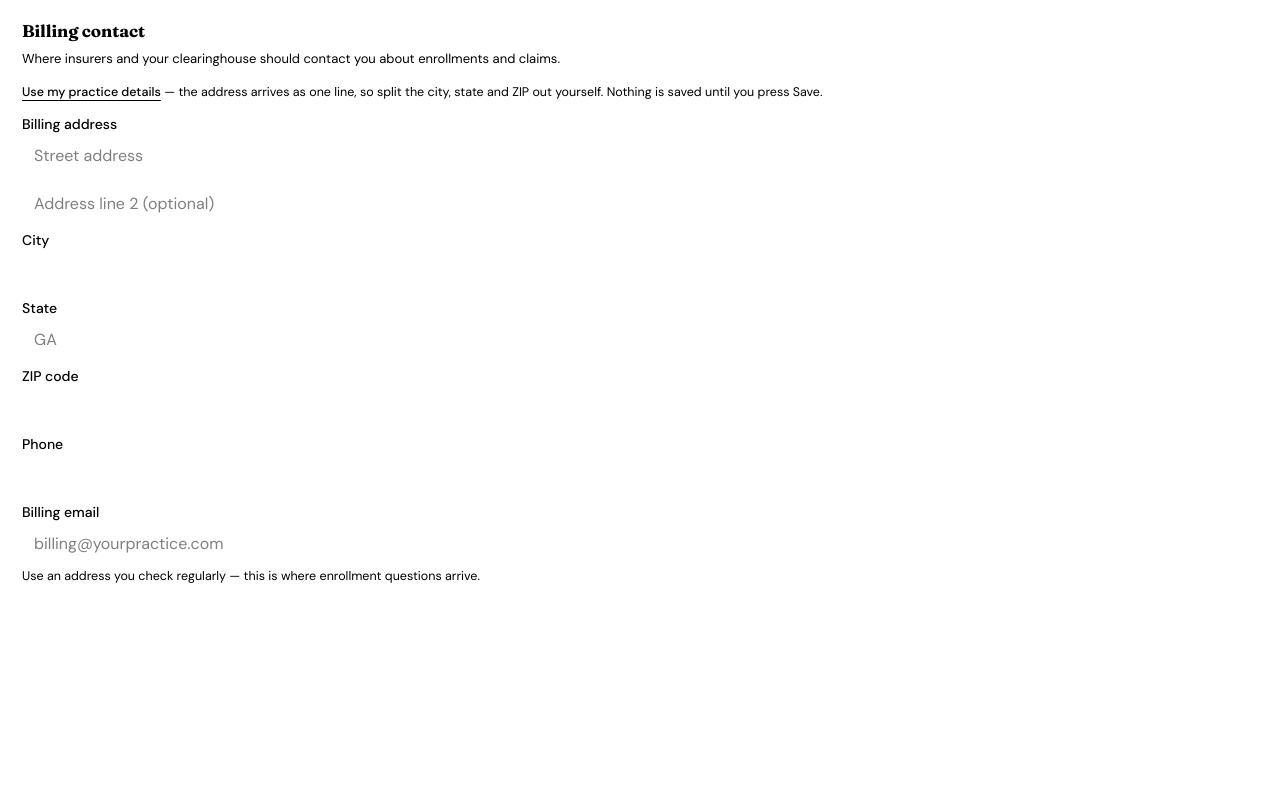
it: BillingContactCard › offers the practice details it already knows, without saving them
Click the button "Use my practice details": [91, 92] box [22, 83, 161, 101]
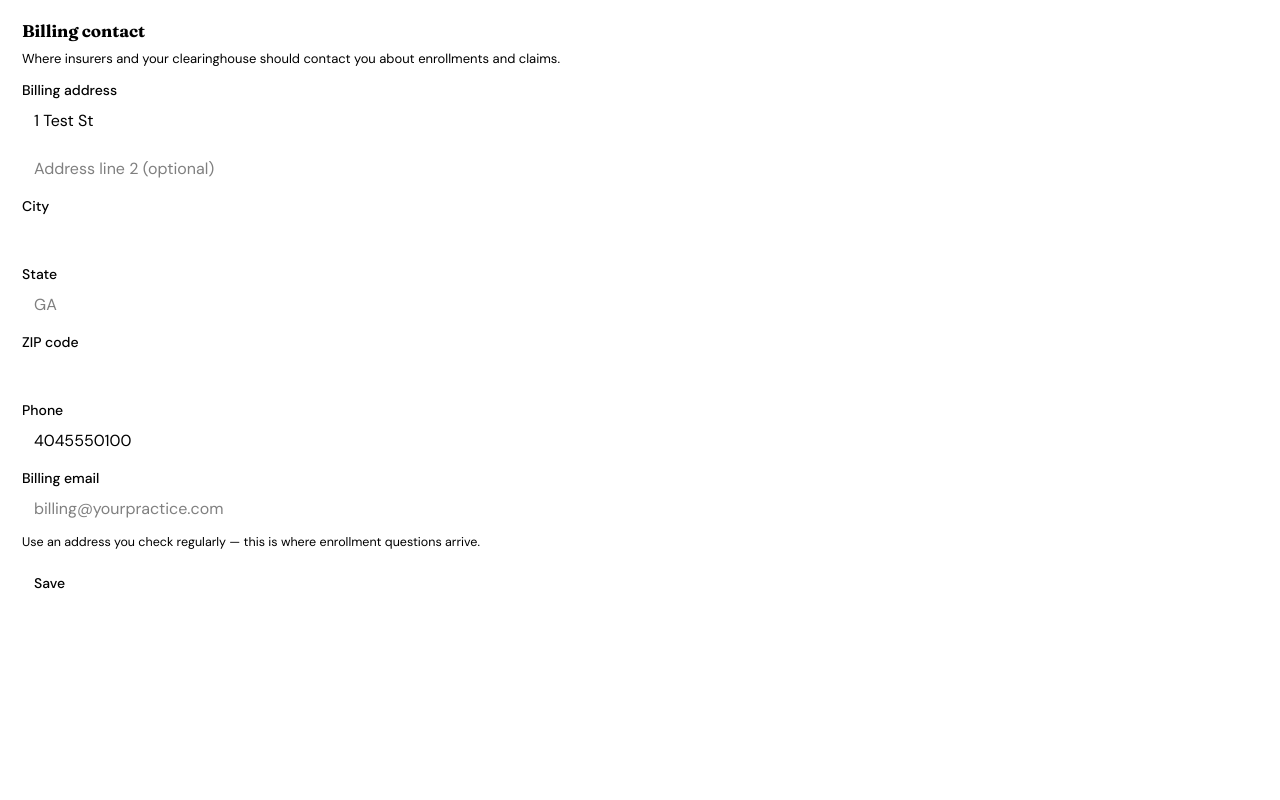
Check: the field labelled "Phone" holds "4045550100", box [22, 423, 1258, 459]
Check: the field labelled "Billing address" holds "1 Test St", box [22, 103, 1258, 139]
